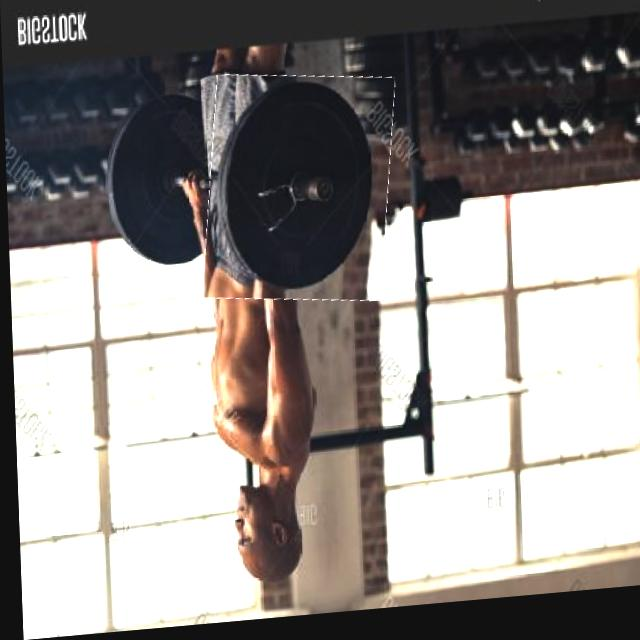barbell: (201, 72, 396, 315)
